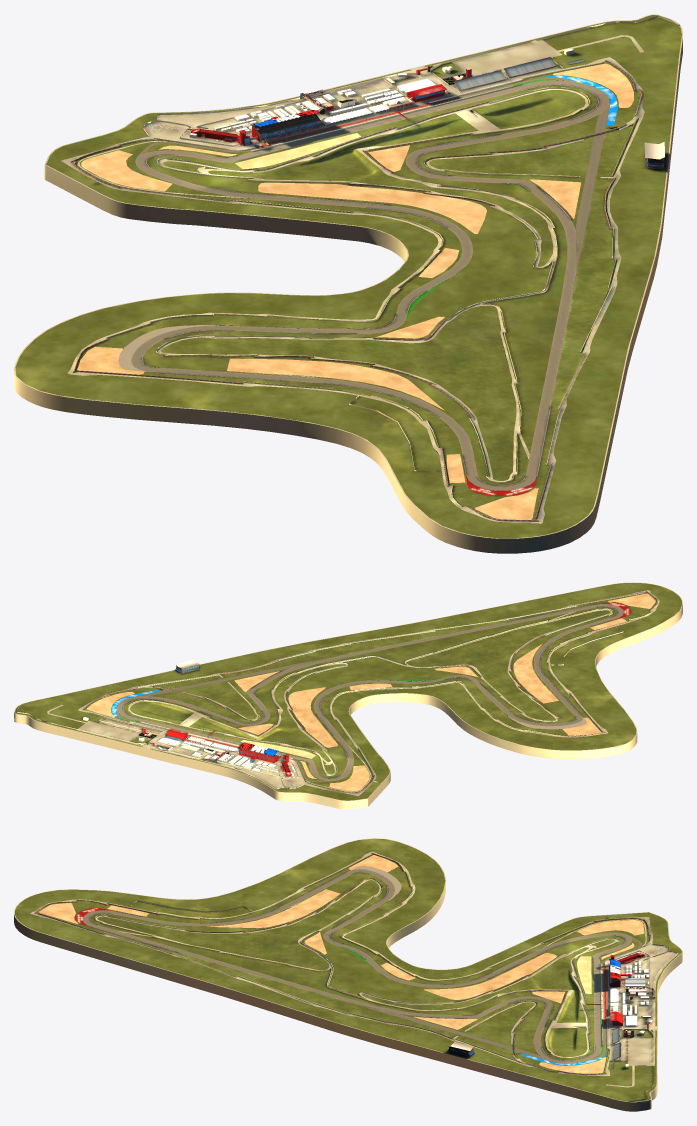
3 views of the same model, one above another, from view 1: azimuth 30°, elevation 25°; view 2: azimuth 150°, elevation 25°; view 3: azimuth 270°, elevation 25° (orthographic). The views are drawn at different scales.
Parts seen in each view (by area): view 1: Object_11, Object_12, Object_2, Object_16, Object_21, Object_23, Object_3, Object_22, Object_18, Object_15, Object_4, Object_8 (+5 smaller); view 2: Object_11, Object_12, Object_2, Object_16, Object_21, Object_23, Object_3, Object_18, Object_22, Object_15, Object_6, Object_4 (+3 smaller); view 3: Object_11, Object_12, Object_2, Object_16, Object_21, Object_23, Object_3, Object_22, Object_18, Object_6, Object_4, Object_8 (+2 smaller).
Boxes of the visible parts, x1=… form: Object_11: x1=15, y1=15, x2=681, y2=538; Object_12: x1=79, y1=62, x2=597, y2=485; Object_2: x1=61, y1=35, x2=644, y2=523; Object_16: x1=14, y1=14, x2=682, y2=553; Object_21: x1=77, y1=63, x2=633, y2=519; Object_23: x1=131, y1=80, x2=609, y2=490; Object_3: x1=106, y1=62, x2=638, y2=506; Object_22: x1=136, y1=77, x2=610, y2=319; Object_18: x1=70, y1=60, x2=642, y2=521; Object_15: x1=93, y1=15, x2=678, y2=471; Object_4: x1=214, y1=66, x2=452, y2=133; Object_8: x1=118, y1=75, x2=617, y2=495; Object_11: x1=15, y1=583, x2=681, y2=800; Object_12: x1=123, y1=606, x2=617, y2=791; Object_2: x1=47, y1=590, x2=659, y2=796; Object_16: x1=14, y1=582, x2=682, y2=809; Object_21: x1=87, y1=593, x2=655, y2=791; Object_23: x1=116, y1=604, x2=623, y2=781; Object_3: x1=86, y1=605, x2=652, y2=788; Object_18: x1=83, y1=591, x2=657, y2=793; Object_22: x1=116, y1=655, x2=447, y2=782; Object_15: x1=17, y1=626, x2=623, y2=788; Object_6: x1=83, y1=660, x2=241, y2=763; Object_4: x1=138, y1=737, x2=278, y2=772; Object_11: x1=15, y1=838, x2=681, y2=1101; Object_12: x1=90, y1=872, x2=652, y2=1060; Object_2: x1=30, y1=851, x2=678, y2=1087; Object_16: x1=14, y1=838, x2=682, y2=1111; Object_21: x1=38, y1=855, x2=644, y2=1073; Object_23: x1=82, y1=869, x2=632, y2=1063; Object_3: x1=77, y1=871, x2=650, y2=1071; Object_22: x1=333, y1=935, x2=642, y2=1061; Object_18: x1=34, y1=853, x2=649, y2=1074; Object_6: x1=447, y1=981, x2=654, y2=1068; Object_4: x1=620, y1=961, x2=650, y2=1035; Object_8: x1=75, y1=866, x2=604, y2=1065.
Size of the model in its own units: 3151 by 107 by 3375.
Materials: 1 (1 with a texture image).
